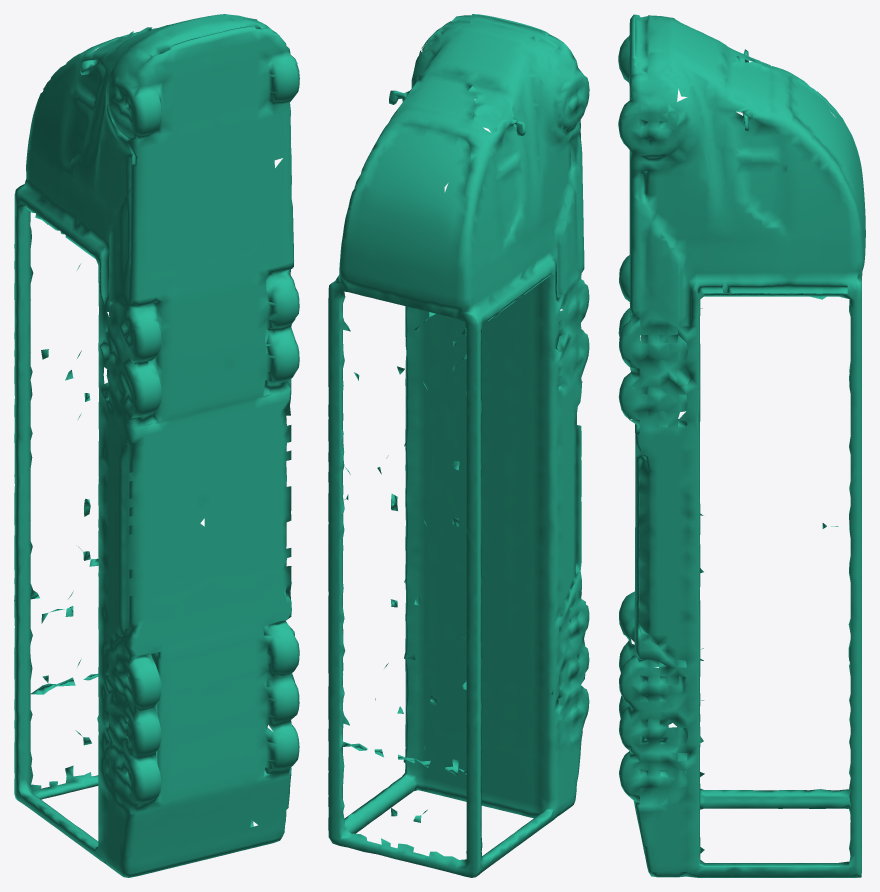
The model's file is ev-truck-lite.glb.
3 views of the same model, side by side, from view 1: azimuth 30°, elevation 25°; view 2: azimuth 150°, elevation 25°; view 3: azimuth 270°, elevation 25° (orthographic). The views are drawn at different scales.
Visible parts, largest first — view 1: EcoTransport optimized GLB truck; view 2: EcoTransport optimized GLB truck; view 3: EcoTransport optimized GLB truck.
Part boxes in pixels (box(x1,y1,x2,y2)): EcoTransport optimized GLB truck: box(14, 14, 299, 877); EcoTransport optimized GLB truck: box(328, 14, 589, 877); EcoTransport optimized GLB truck: box(618, 14, 865, 877).
Size of the model in its own units: 0.2348 by 1.14 by 0.316.
